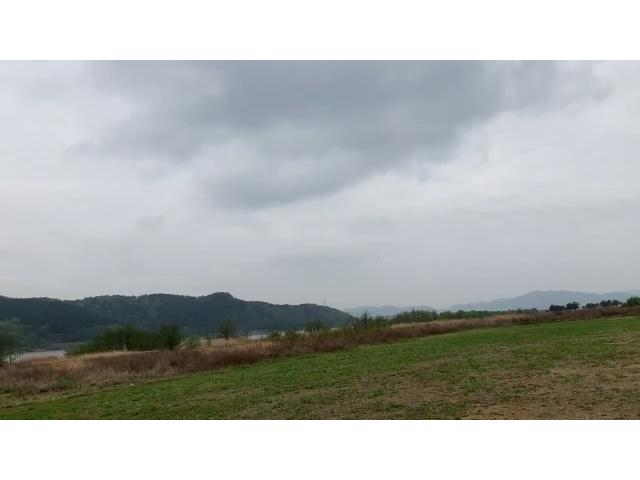Anti-Drone: (376, 254, 386, 263)
